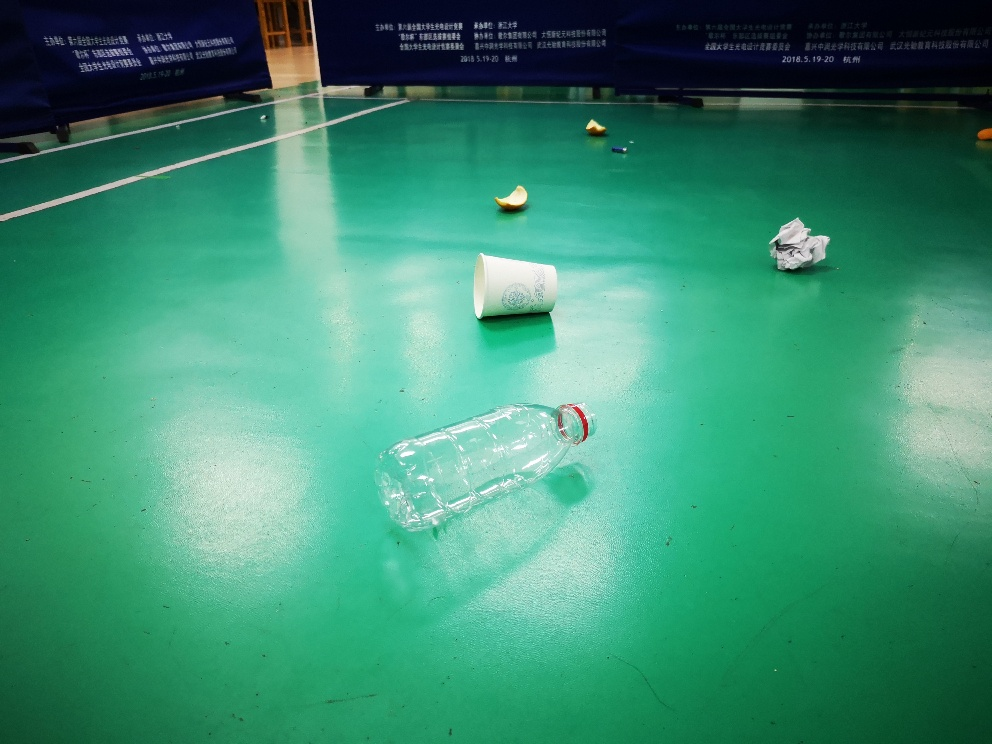battery: (604, 142, 634, 159)
bottle: (372, 396, 599, 540)
orangepeel: (489, 183, 533, 208), (583, 117, 608, 137), (972, 123, 992, 144)
papercup: (466, 252, 561, 322)
spitball: (768, 214, 832, 276)
